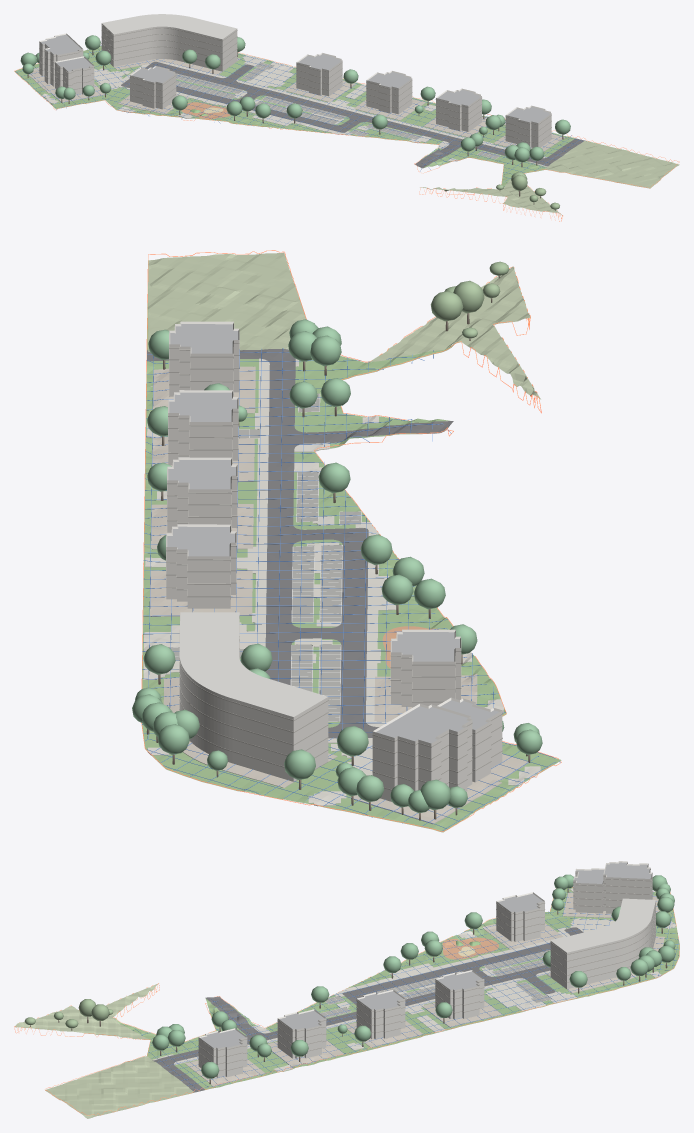
File: concept.glb
The picture shows the model from 3 angles, top to bottom: view 1: azimuth 30°, elevation 25°; view 2: azimuth 150°, elevation 25°; view 3: azimuth 270°, elevation 25°; orthographic projection. The views are drawn at different scales.
Parts seen in each view (by area): view 1: C3D_BLD_C_5k, CONCEPT3D_EXISTING_GROUND_OUTSIDE_CONCEPT, CONCEPT3D_GREEN_zielen_01, CONCEPT3D_ROAD_jezdnia_01, C3D_GRID_G1_5m, C3D_BLD_A4_4k_typA, C3D_BLD_A3_4k_typA, C3D_BLD_B_4k_typA, C3D_BLD_A2_4k_typA, C3D_BLD_A1_4k_typA, CONCEPT3D_PATH_chodnik_01, C3D_BLD_D_N_5k (+17 smaller); view 2: CONCEPT3D_EXISTING_GROUND_OUTSIDE_CONCEPT, CONCEPT3D_ROAD_jezdnia_01, C3D_BLD_C_5k, CONCEPT3D_GREEN_zielen_01, C3D_GRID_G1_5m, C3D_BLD_D_N_5k, C3D_BLD_A4_4k_typA, C3D_BLD_B_4k_typA, C3D_BLD_A3_4k_typA, C3D_BLD_A1_4k_typA, C3D_BLD_A2_4k_typA, CONCEPT3D_PATH_chodnik_01 (+20 smaller); view 3: CONCEPT3D_EXISTING_GROUND_OUTSIDE_CONCEPT, CONCEPT3D_GREEN_zielen_01, C3D_BLD_C_5k, CONCEPT3D_ROAD_jezdnia_01, C3D_GRID_G1_5m, C3D_BLD_B_4k_typA, C3D_BLD_A3_4k_typA, C3D_BLD_D_N_5k, C3D_BLD_A4_4k_typA, C3D_BLD_A1_4k_typA, C3D_BLD_A2_4k_typA, CONCEPT3D_PATH_chodnik_02 (+14 smaller).
Boxes of the visible parts, x1,y1,x2,y2 form: C3D_BLD_C_5k: (101,14,237,71); CONCEPT3D_EXISTING_GROUND_OUTSIDE_CONCEPT: (420,141,679,215); CONCEPT3D_GREEN_zielen_01: (14,46,574,157); CONCEPT3D_ROAD_jezdnia_01: (121,62,586,168); C3D_GRID_G1_5m: (102,54,582,186); C3D_BLD_A4_4k_typA: (296,53,342,96); C3D_BLD_A3_4k_typA: (366,71,412,114); C3D_BLD_B_4k_typA: (130,66,176,109); C3D_BLD_A2_4k_typA: (436,88,481,131); C3D_BLD_A1_4k_typA: (505,105,551,147); CONCEPT3D_PATH_chodnik_01: (236,62,546,157); C3D_BLD_D_N_5k: (39,33,83,86); CONCEPT3D_EXISTING_GROUND_OUTSIDE_CONCEPT: (148,252,540,759); CONCEPT3D_ROAD_jezdnia_01: (147,349,453,738); C3D_BLD_C_5k: (179,612,328,781); CONCEPT3D_GREEN_zielen_01: (142,359,561,832); C3D_GRID_G1_5m: (142,348,505,738); C3D_BLD_D_N_5k: (372,703,472,801); C3D_BLD_A4_4k_typA: (166,524,236,608); C3D_BLD_B_4k_typA: (391,629,460,707); C3D_BLD_A3_4k_typA: (167,457,237,532); C3D_BLD_A1_4k_typA: (169,321,239,396); C3D_BLD_A2_4k_typA: (168,390,238,465); CONCEPT3D_PATH_chodnik_01: (144,358,269,651); CONCEPT3D_EXISTING_GROUND_OUTSIDE_CONCEPT: (15,984,194,1118); CONCEPT3D_GREEN_zielen_01: (175,887,679,1089); C3D_BLD_C_5k: (550,898,655,988); CONCEPT3D_ROAD_jezdnia_01: (154,927,582,1092); C3D_GRID_G1_5m: (124,911,645,1090); C3D_BLD_B_4k_typA: (496,892,544,941); C3D_BLD_A3_4k_typA: (356,989,405,1039); C3D_BLD_D_N_5k: (603,861,652,913); C3D_BLD_A4_4k_typA: (435,970,484,1019); C3D_BLD_A1_4k_typA: (198,1028,247,1077); C3D_BLD_A2_4k_typA: (277,1009,326,1058); CONCEPT3D_PATH_chodnik_02: (334,918,614,996).
Bounding box in the file's own units: 223 × 18.72 × 275.
